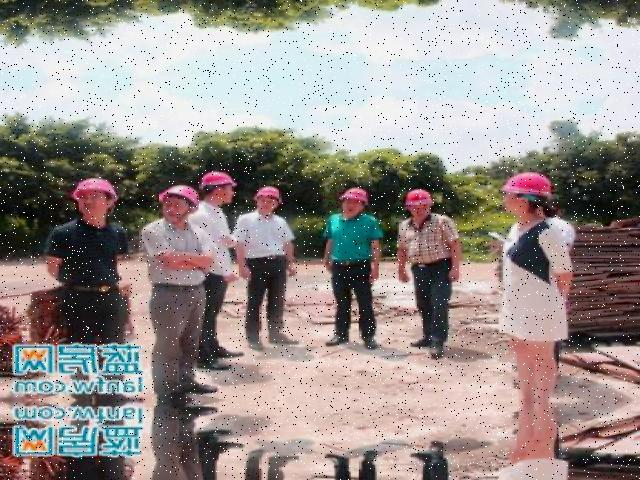Helmet: (497, 167, 558, 200), (72, 172, 125, 208), (157, 181, 206, 212), (200, 168, 241, 196), (402, 184, 438, 212), (252, 180, 290, 205), (339, 185, 375, 207)
